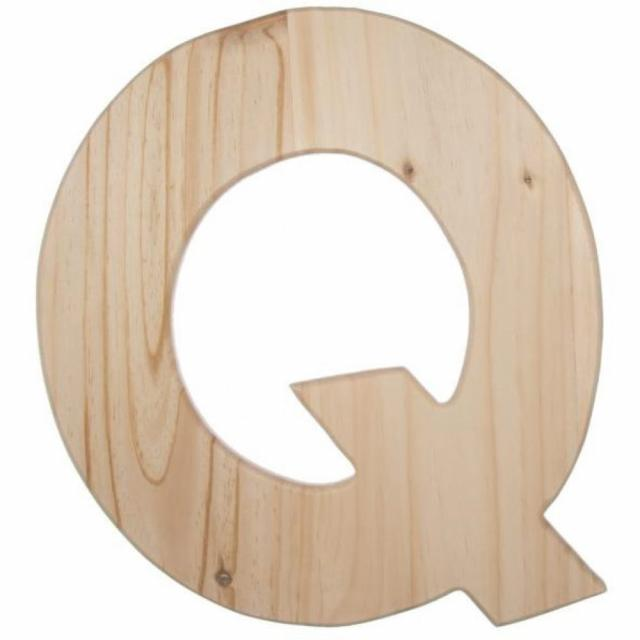Q: (20, 0, 639, 640)
